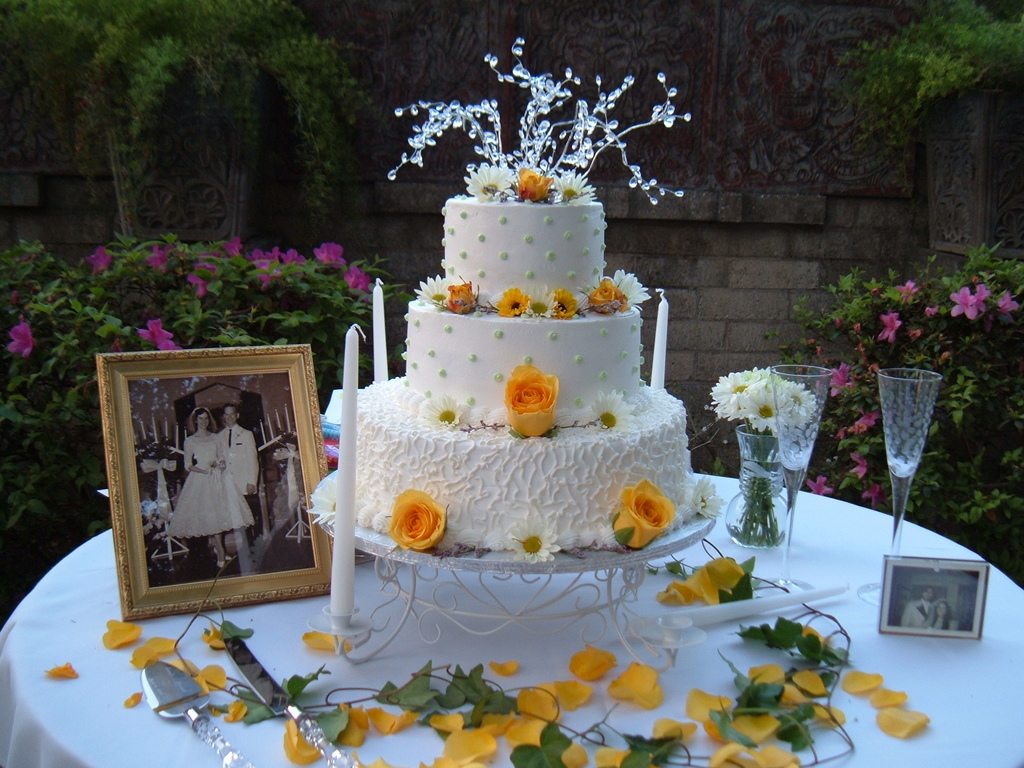cake: (355, 193, 694, 547)
